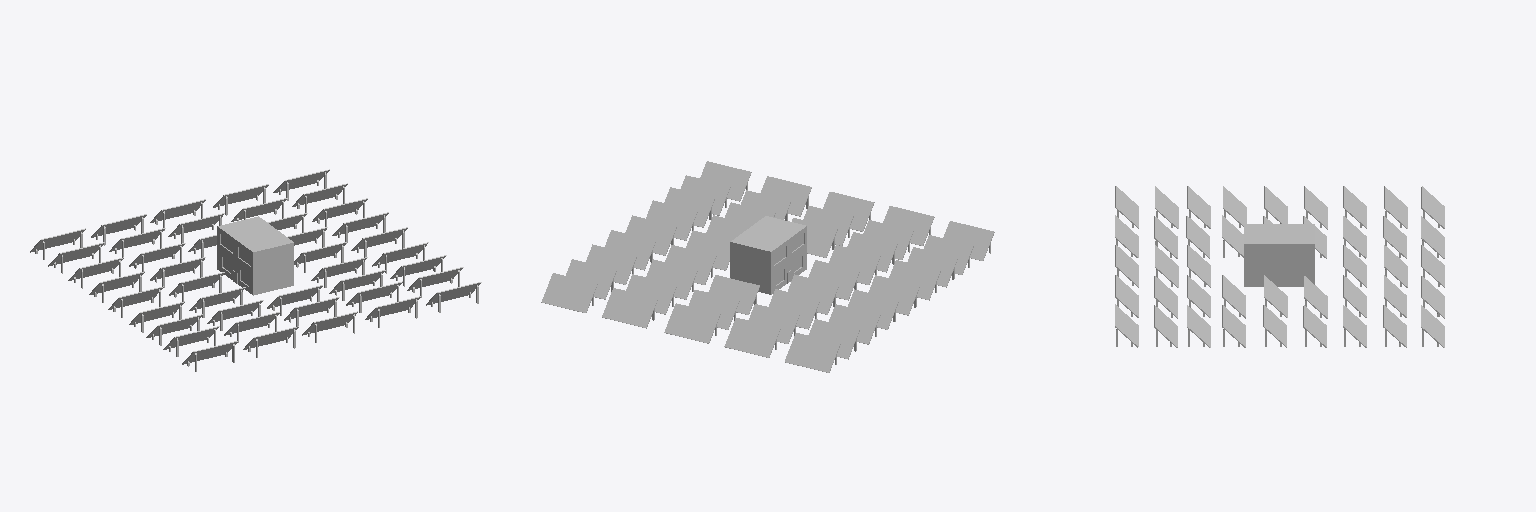
Rendered from solarfarm.obj.
3 views of the same model, side by side, from view 1: azimuth 30°, elevation 25°; view 2: azimuth 150°, elevation 25°; view 3: azimuth 270°, elevation 25° (orthographic).
Parts seen in each view (by area): view 1: Cube, Cube.010, Cube.009, Cube.006, Cube.015, Cube.030, Cube.007, Cube.004, Cube.038, Cube.005, Cube.012, Cube.026 (+28 smaller); view 2: Cube, Cube.004, Cube.003, Cube.002, Cube.005, Cube.001, Cube.031, Cube.032, Cube.011, Cube.035, Cube.015, Cube.012 (+28 smaller); view 3: Cube, Cube.010, Cube.035, Cube.020, Cube.025, Cube.045, Cube.005, Cube.030, Cube.015, Cube.040, Cube.004, Cube.037 (+28 smaller).
Boxes of the visible parts, x1=… form: Cube: x1=217, y1=216, x2=293, y2=295; Cube.010: x1=426, y1=282, x2=481, y2=312; Cube.009: x1=365, y1=296, x2=420, y2=327; Cube.006: x1=182, y1=341, x2=237, y2=371; Cube.015: x1=351, y1=227, x2=407, y2=257; Cube.030: x1=332, y1=212, x2=388, y2=243; Cube.007: x1=243, y1=326, x2=298, y2=357; Cube.004: x1=213, y1=184, x2=268, y2=215; Cube.038: x1=284, y1=297, x2=339, y2=326; Cube.005: x1=273, y1=169, x2=329, y2=200; Cube.012: x1=169, y1=272, x2=224, y2=301; Cube.026: x1=89, y1=271, x2=144, y2=302; Cube: x1=730, y1=216, x2=806, y2=294; Cube.004: x1=602, y1=288, x2=657, y2=328; Cube.003: x1=664, y1=303, x2=720, y2=343; Cube.002: x1=724, y1=318, x2=780, y2=357; Cube.005: x1=541, y1=273, x2=597, y2=312; Cube.001: x1=785, y1=333, x2=840, y2=372; Cube.031: x1=889, y1=260, x2=940, y2=300; Cube.032: x1=829, y1=245, x2=880, y2=284; Cube.011: x1=868, y1=275, x2=919, y2=315; Cube.035: x1=646, y1=200, x2=697, y2=240; Cube.015: x1=625, y1=215, x2=676, y2=255; Cube.012: x1=808, y1=260, x2=859, y2=300; Cube: x1=1244, y1=224, x2=1314, y2=286; Cube.010: x1=1115, y1=304, x2=1138, y2=347; Cube.035: x1=1222, y1=305, x2=1245, y2=347; Cube.020: x1=1383, y1=305, x2=1406, y2=347; Cube.025: x1=1343, y1=305, x2=1366, y2=347; Cube.045: x1=1187, y1=305, x2=1210, y2=347; Cube.005: x1=1421, y1=305, x2=1444, y2=347; Cube.030: x1=1303, y1=305, x2=1326, y2=347; Cube.015: x1=1263, y1=305, x2=1286, y2=347; Cube.040: x1=1154, y1=305, x2=1177, y2=347; Cube.004: x1=1421, y1=276, x2=1444, y2=318; Cube.037: x1=1154, y1=216, x2=1177, y2=258.
Size of the model in its own units: 0.8368 by 0.1215 by 0.8287.